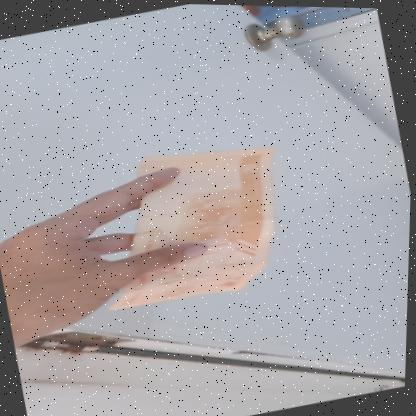vef_back: (78, 128, 301, 319)
